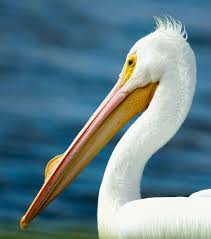pelican: (21, 16, 211, 235)
